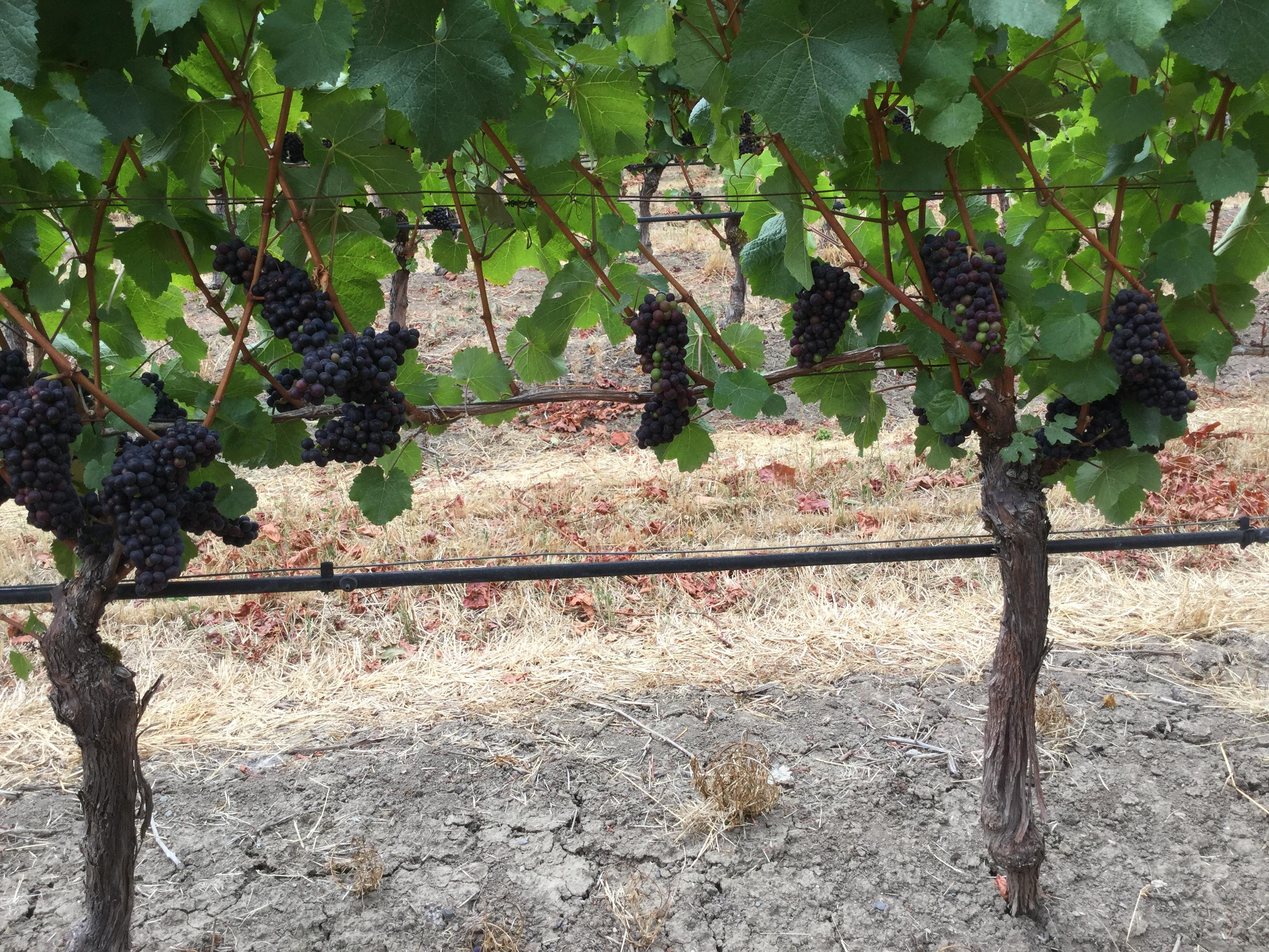leaf: (349, 0, 521, 161), (727, 0, 900, 154), (304, 100, 419, 207), (1163, 0, 1268, 88), (141, 100, 241, 190), (568, 43, 647, 155), (517, 258, 606, 355), (259, 0, 353, 87), (84, 58, 182, 141), (12, 99, 106, 175), (1070, 449, 1161, 521), (759, 165, 812, 286), (900, 11, 977, 94), (673, 0, 729, 102), (506, 94, 580, 167), (1146, 219, 1216, 296), (740, 214, 801, 299), (1090, 76, 1164, 143), (1215, 190, 1268, 280), (114, 221, 175, 297), (1080, 0, 1173, 47), (916, 81, 982, 147), (1188, 139, 1257, 202), (1038, 293, 1100, 360), (792, 369, 875, 417), (1048, 350, 1119, 404), (349, 464, 412, 524), (191, 461, 257, 518), (970, 0, 1063, 37), (506, 329, 567, 382), (0, 0, 37, 86), (126, 168, 179, 228), (452, 347, 512, 399), (711, 368, 772, 419), (654, 421, 714, 472), (1097, 135, 1156, 184), (1105, 35, 1165, 79), (132, 0, 202, 37), (393, 350, 438, 405), (914, 425, 966, 469), (1192, 330, 1235, 382), (849, 392, 887, 450), (109, 377, 157, 421), (720, 321, 764, 368), (614, 0, 669, 37), (924, 390, 969, 433), (429, 231, 468, 273), (598, 213, 638, 253), (1000, 432, 1037, 464), (50, 539, 80, 578), (1042, 413, 1077, 445), (762, 391, 787, 417), (837, 416, 849, 432), (714, 347, 723, 360), (1126, 493, 1135, 502), (517, 317, 525, 327), (1164, 0, 1170, 9), (619, 205, 628, 208), (901, 19, 905, 24), (1146, 0, 1149, 1), (900, 40, 901, 42), (336, 0, 337, 1), (456, 374, 456, 375)
